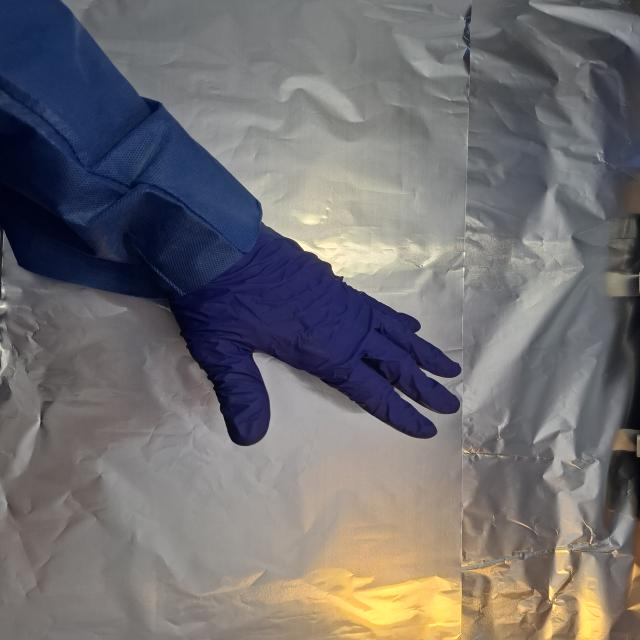glove_on: (169, 224, 465, 450)
